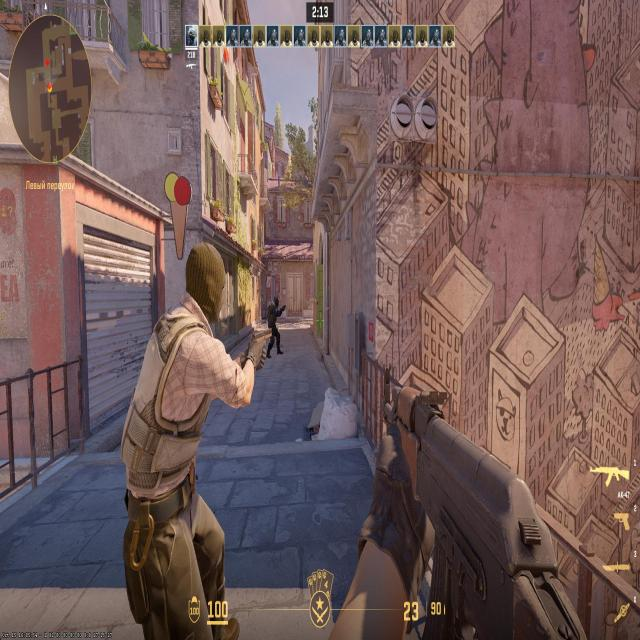CT: (265, 296, 280, 350)
CT_heat: (269, 297, 277, 312)
T: (161, 253, 216, 561)
T_heat: (195, 260, 213, 305)
